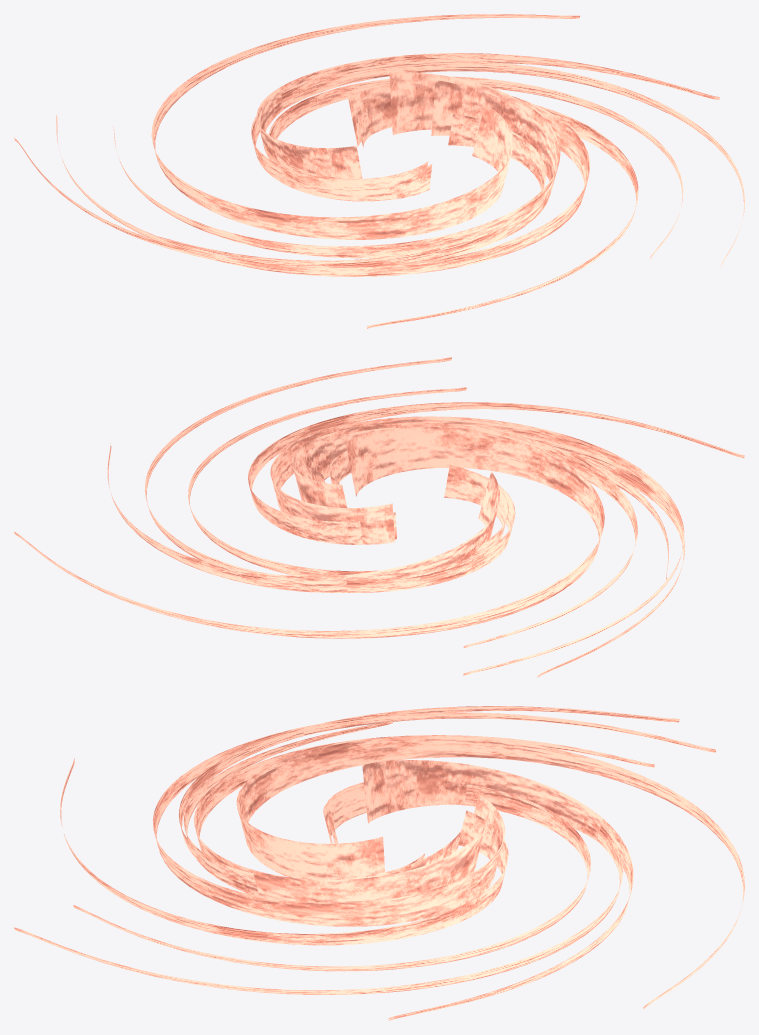
Rendered from devil_streamers.glb.
3 renders of one model, top to bottom at view 1: azimuth 30°, elevation 25°; view 2: azimuth 150°, elevation 25°; view 3: azimuth 270°, elevation 25°, orthographic. The views are drawn at different scales.
Parts seen in each view (by area): view 1: devil_streamers; view 2: devil_streamers; view 3: devil_streamers.
Part boxes in pixels (<box>): devil_streamers: <box>14,14,744,328</box>; devil_streamers: <box>14,357,744,677</box>; devil_streamers: <box>14,706,744,1020</box>.
Bounding box in the file's own units: 31.91 × 3.19 × 31.73.
Materials: 1 (1 with a texture image).
